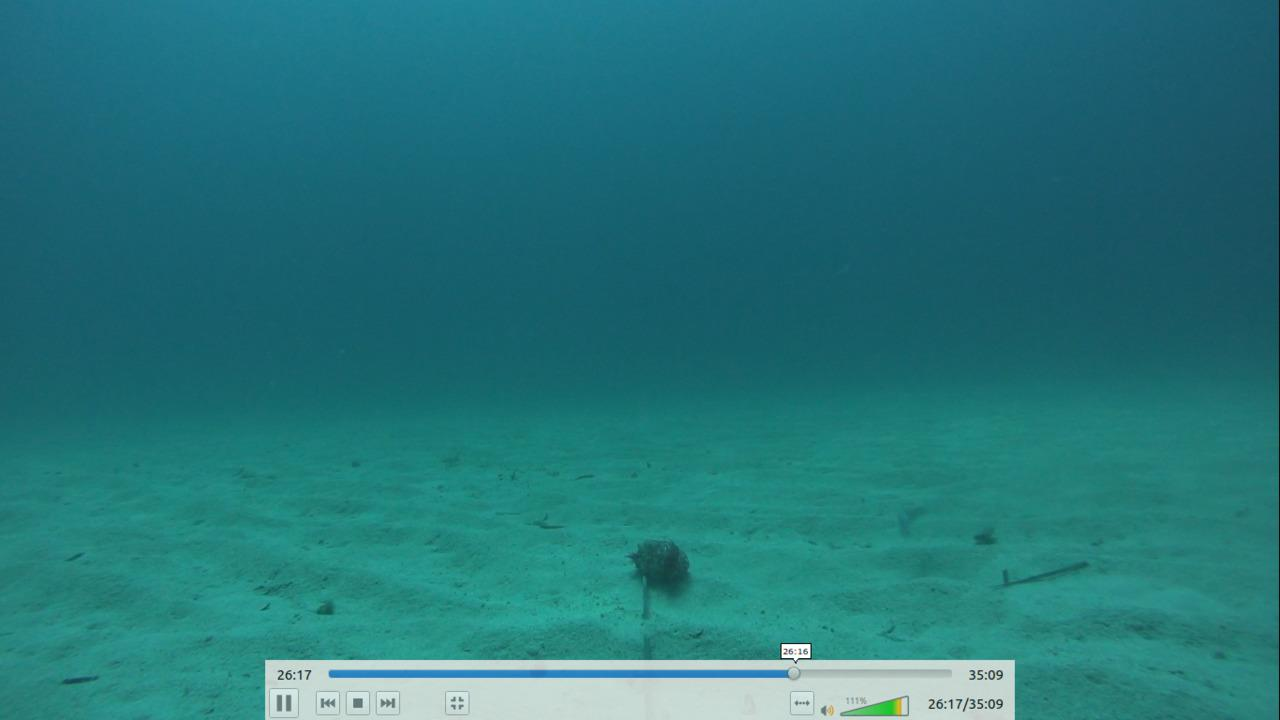raor: (880, 495, 934, 554)
